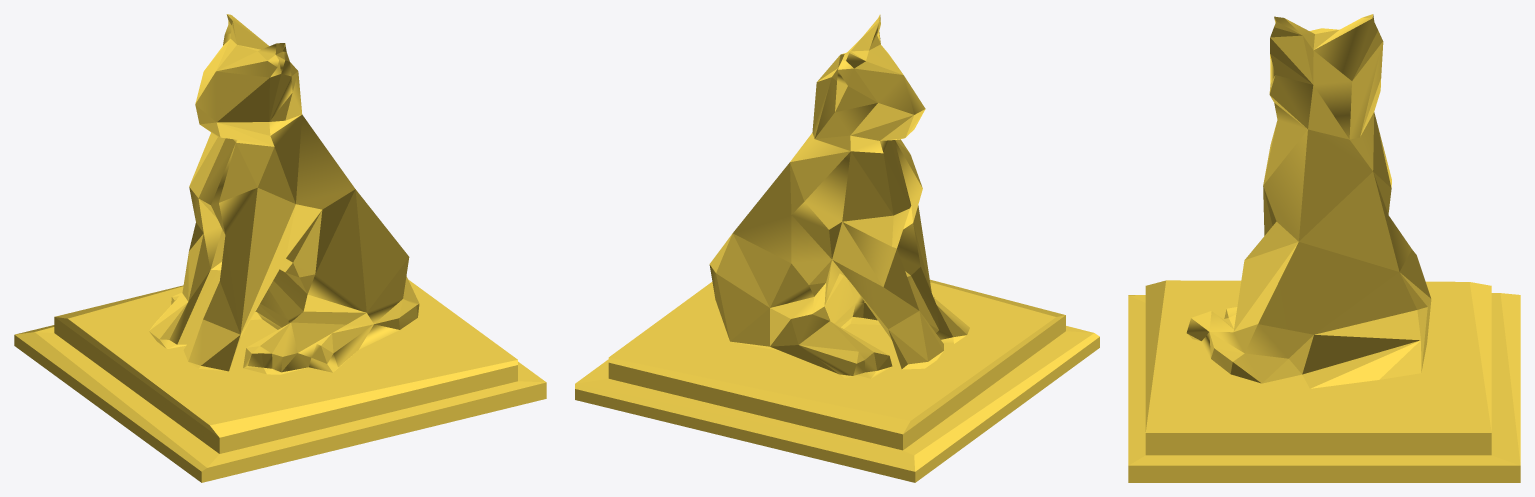
Rendered from goldKitty.FBX.
The picture shows the model from 3 angles, left to right: view 1: azimuth 30°, elevation 25°; view 2: azimuth 150°, elevation 25°; view 3: azimuth 270°, elevation 25°; orthographic projection. The views are drawn at different scales.
Parts seen in each view (by area): view 1: Box227; view 2: Box227; view 3: Box227.
Boxes of the visible parts, x1,y1,x2,y2 form: Box227: [14, 14, 546, 482]; Box227: [575, 14, 1099, 482]; Box227: [1128, 14, 1520, 482].
Bounding box in the file's own units: 12.06 × 11.75 × 11.34.
